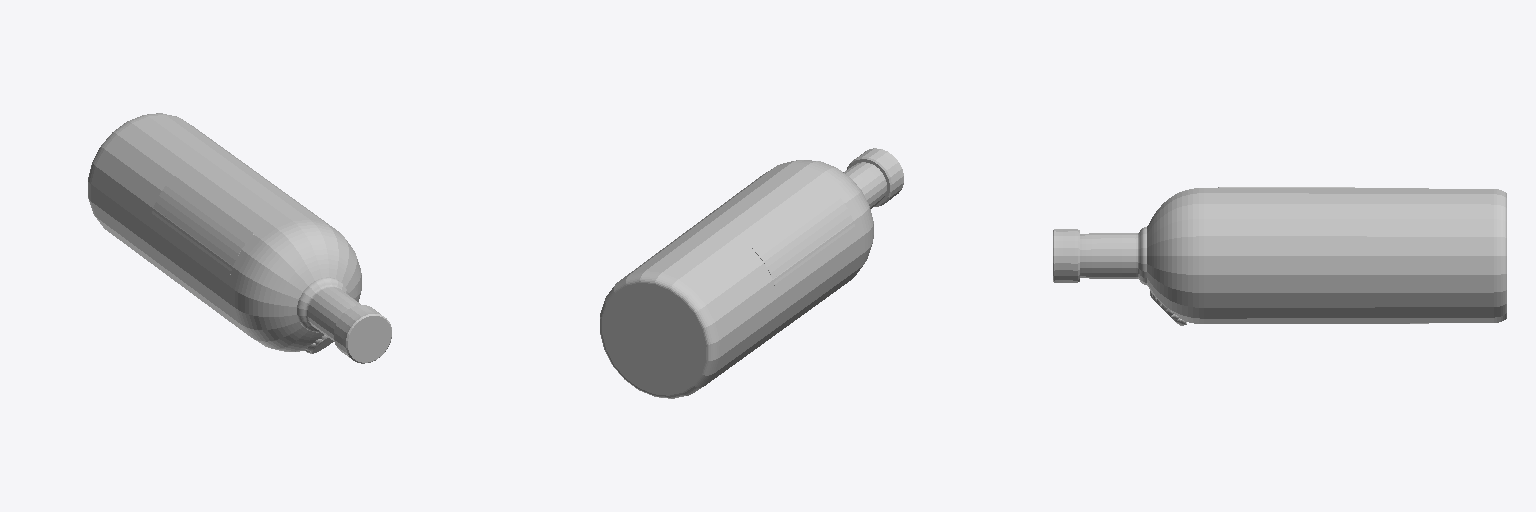
The model's file is Absolut.obj.
The picture shows the model from 3 angles: view 1: azimuth 30°, elevation 25°; view 2: azimuth 150°, elevation 25°; view 3: azimuth 270°, elevation 25°; orthographic projection.
Size of the model in its own units: 337 by 340 by 1121.